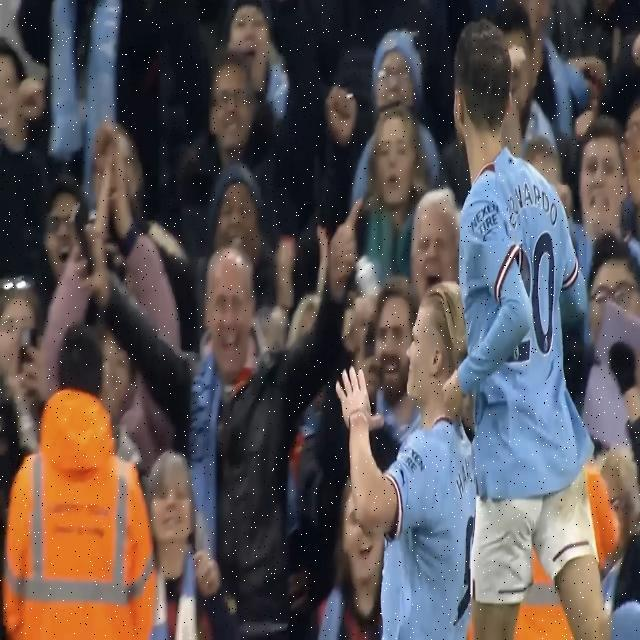player: (434, 11, 640, 640), (326, 218, 504, 640)
